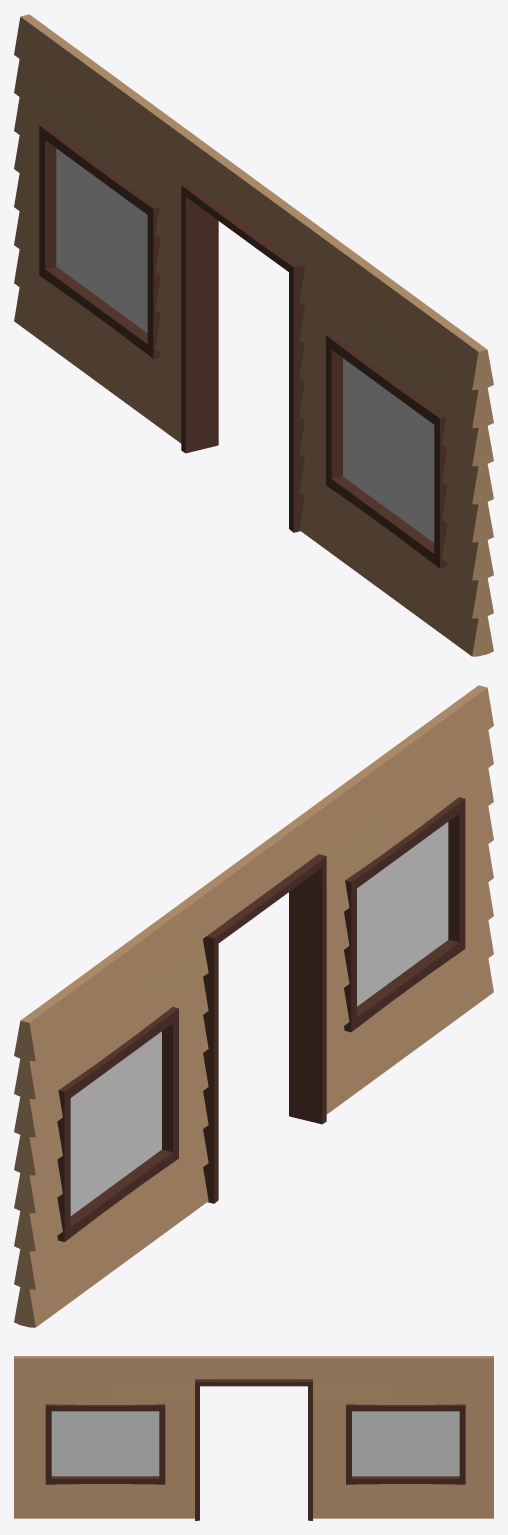
Rendered from Saloon Door B-col.glb.
The picture shows the model from 3 angles, top to bottom: view 1: azimuth 30°, elevation 25°; view 2: azimuth 150°, elevation 25°; view 3: azimuth 270°, elevation 25°; orthographic projection. The views are drawn at different scales.
Parts seen in each view (by area): view 1: Saloon Door B-col.001; view 2: Saloon Door B-col.001; view 3: Saloon Door B-col.001.
Part boxes in pixels (x1=…): Saloon Door B-col.001: x1=14, y1=14, x2=493, y2=656; Saloon Door B-col.001: x1=14, y1=685, x2=493, y2=1327; Saloon Door B-col.001: x1=14, y1=1356, x2=493, y2=1520.
Size of the model in its own units: 0.25 by 2.2 by 6.
